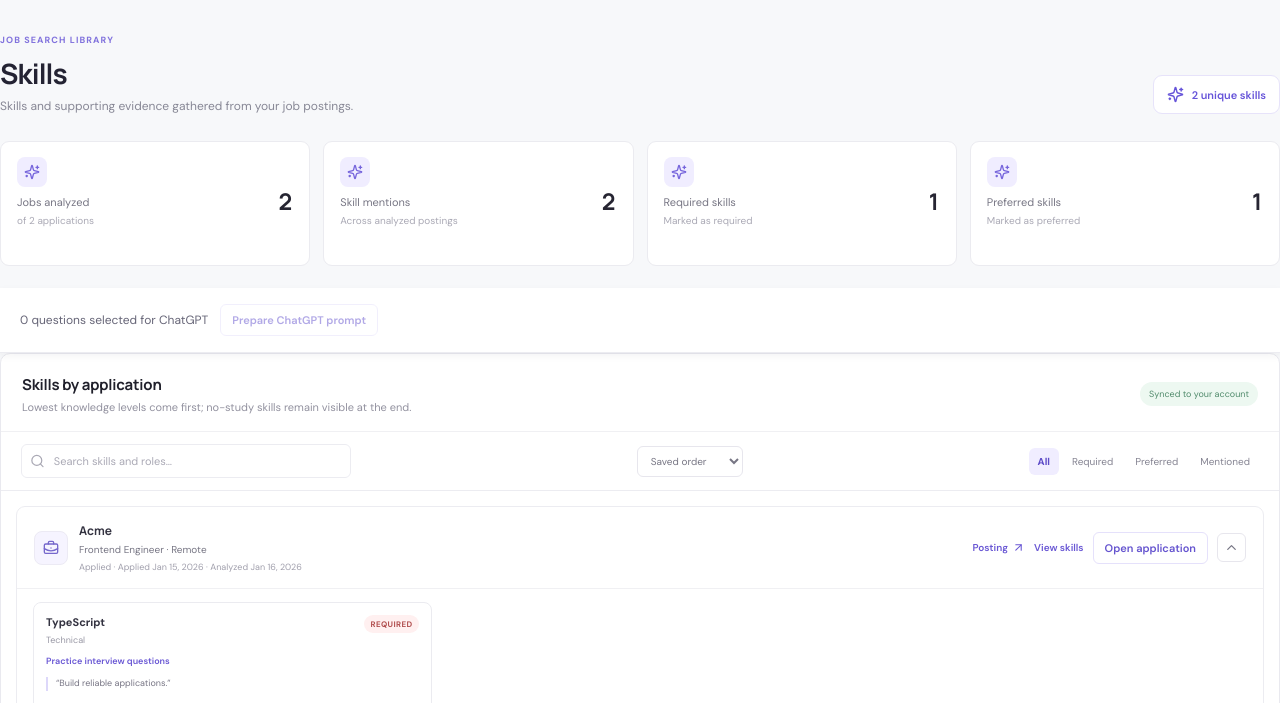
Scenario: SkillsPage › collapses a job section independently and keeps its identity visible
Click the button named "Collapse Acme skills" at (1232, 548), box [1217,533,1246,562]
(page scrolled)
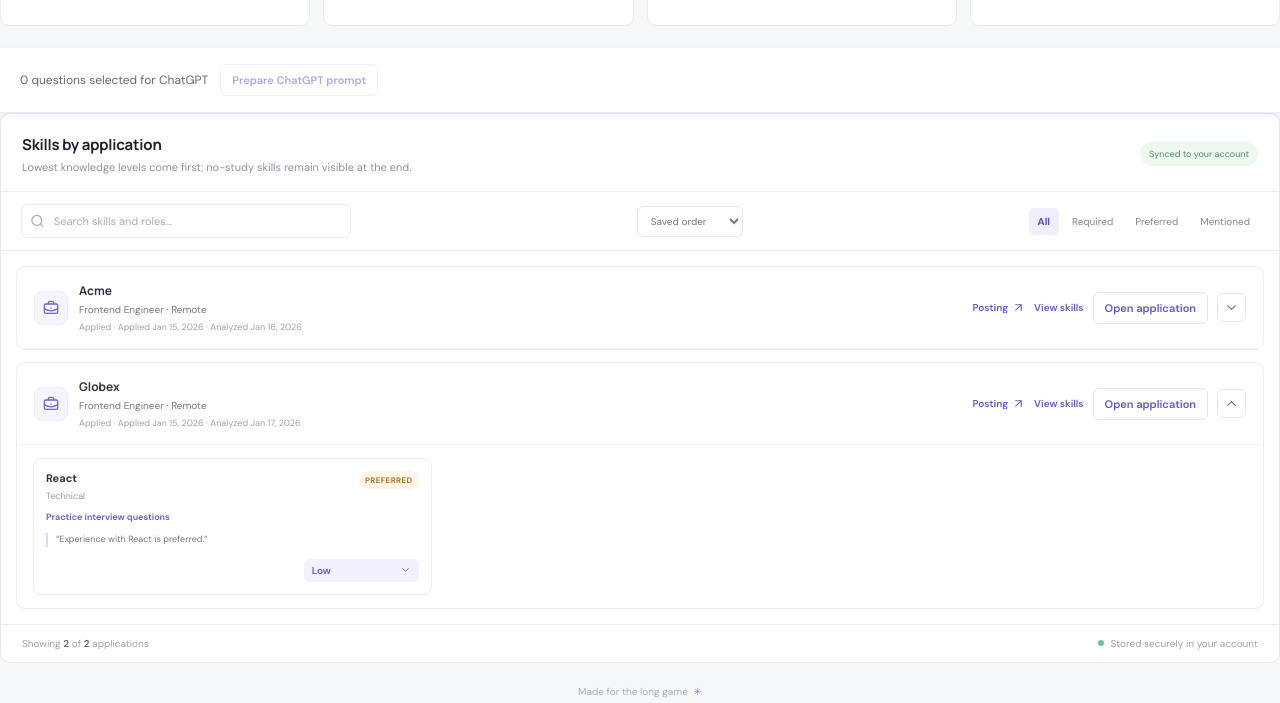
Expected: the heading "Acme" is shown, [79,282,112,299]
Expected: the button "TypeScript" is gone
